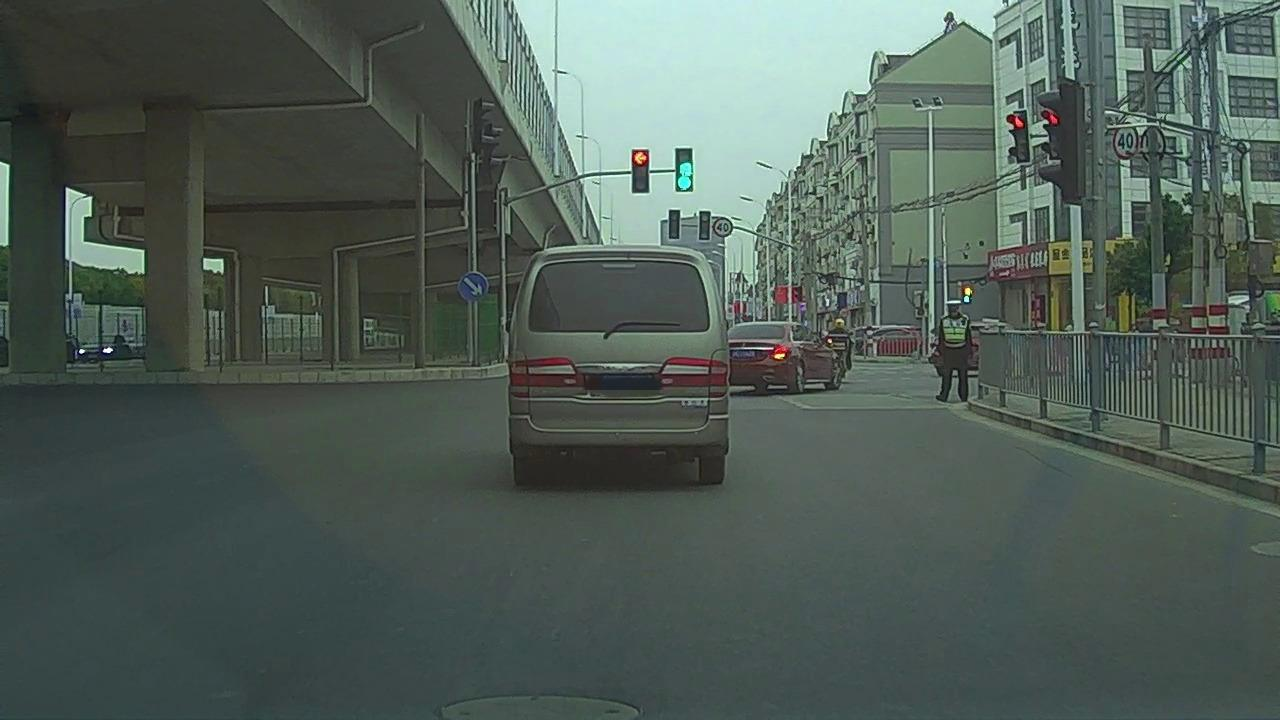traffic_light: (675, 148, 692, 190), (633, 149, 648, 193)
